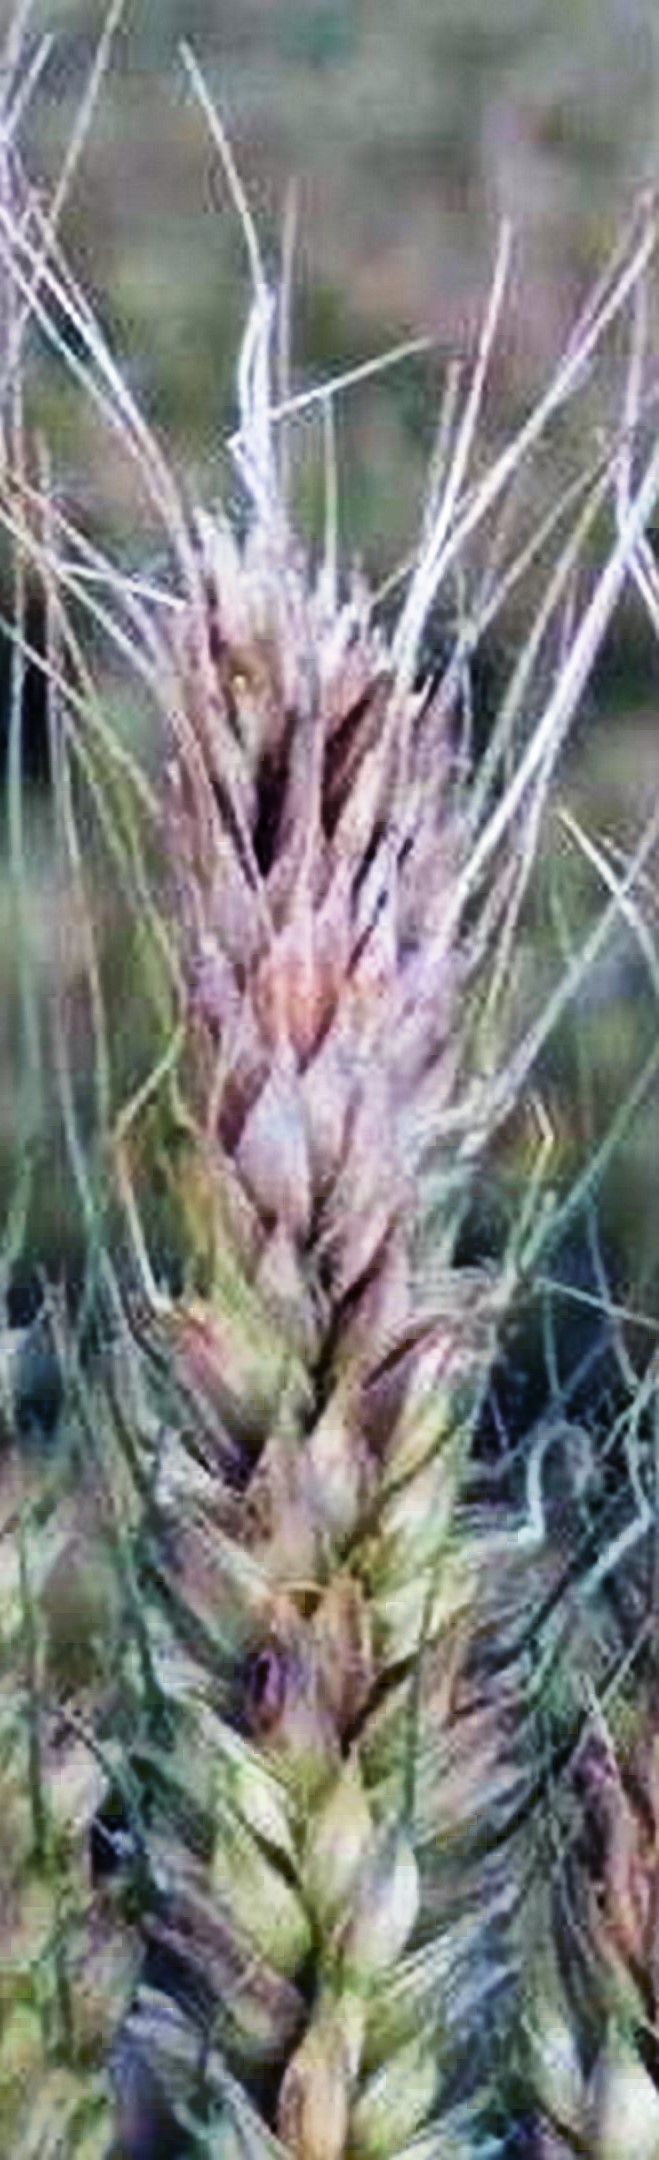Wheat scab: (74, 499, 507, 2143)
